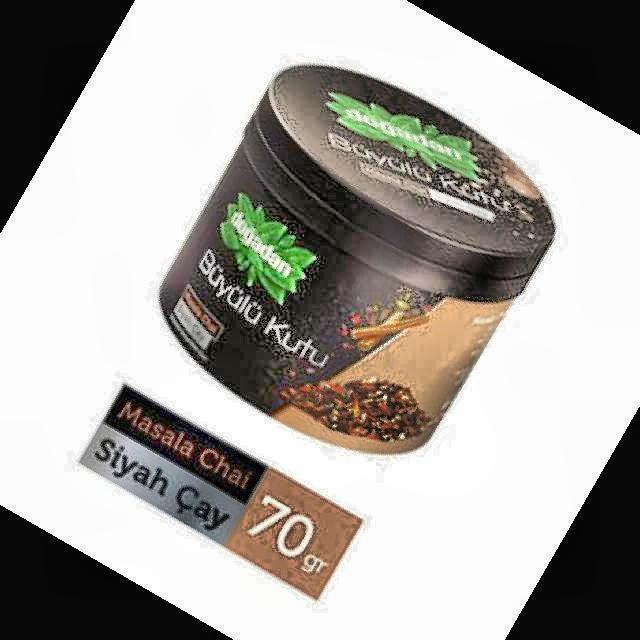plastic: (160, 65, 552, 452)
